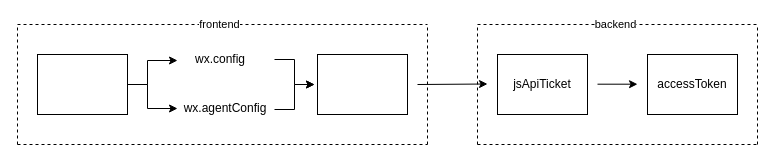
Image size: 776x163. Some labels were removed from this diagram. The shapes that lost their labels are listed below. From the top down, each one's box as (x1, y1, x2, y2) in pixels, then its label:
(36, 54, 128, 114): 调用JS_SDK
(316, 54, 408, 114): signature
